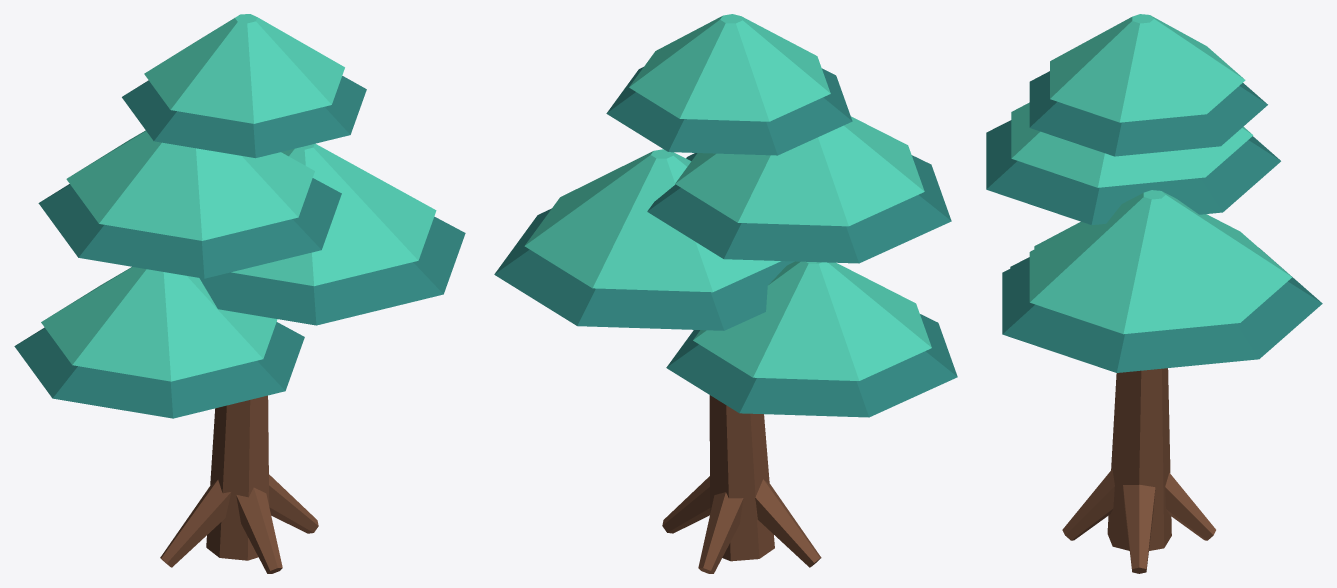
File: tree.glb
3 views of the same model, side by side, from view 1: azimuth 30°, elevation 25°; view 2: azimuth 150°, elevation 25°; view 3: azimuth 270°, elevation 25° (orthographic).
Visible parts, largest first — view 1: Pine sunlit bough cap 2, Pine sunlit bough cap 0, Pine sunlit bough cap 3, Pine sculpted bough 2, Pine sunlit bough cap 1, Pine sculpted bough 0, Pine sculpted bough 1, Pine sculpted bough 3, Pine trunk lower, Pine ground roots.002, Pine ground roots.003, Pine ground roots; view 2: Pine sunlit bough cap 0, Pine sunlit bough cap 1, Pine sunlit bough cap 2, Pine sunlit bough cap 3, Pine sculpted bough 2, Pine sculpted bough 1, Pine sculpted bough 0, Pine sculpted bough 3, Pine trunk lower, Pine ground roots.002, Pine ground roots.001, Pine ground roots; view 3: Pine sunlit bough cap 1, Pine sunlit bough cap 3, Pine sculpted bough 1, Pine sculpted bough 2, Pine sculpted bough 3, Pine trunk lower, Pine sunlit bough cap 2, Pine ground roots, Pine ground roots.003, Pine ground roots.001.
Boxes of the visible parts, box(x1,y1,x2,y2) form: Pine sunlit bough cap 2: box(66, 130, 314, 240); Pine sunlit bough cap 0: box(41, 267, 277, 381); Pine sunlit bough cap 3: box(144, 14, 344, 123); Pine sculpted bough 2: box(38, 178, 341, 278); Pine sunlit bough cap 1: box(231, 143, 436, 286); Pine sculpted bough 0: box(14, 322, 304, 418); Pine sculpted bough 1: box(199, 216, 465, 325); Pine sculpted bough 3: box(122, 76, 366, 158); Pine trunk lower: box(206, 395, 269, 560); Pine ground roots.002: box(160, 480, 231, 567); Pine ground roots.003: box(236, 487, 282, 573); Pine ground roots: box(269, 474, 318, 533); Pine sunlit bough cap 0: box(693, 261, 931, 380); Pine sunlit bough cap 1: box(524, 149, 780, 292); Pine sunlit bough cap 2: box(675, 116, 924, 226); Pine sunlit bough cap 3: box(629, 14, 830, 121); Pine sculpted bough 2: box(647, 153, 951, 263); Pine sculpted bough 1: box(494, 208, 794, 330); Pine sculpted bough 0: box(666, 314, 957, 417); Pine sculpted bough 3: box(606, 67, 852, 155); Pine trunk lower: box(709, 395, 774, 561); Pine ground roots.002: box(755, 479, 821, 567); Pine ground roots.001: box(698, 492, 743, 573); Pine ground roots: box(662, 476, 710, 533); Pine sunlit bough cap 1: box(1029, 190, 1292, 334); Pine sunlit bough cap 3: box(1050, 14, 1245, 122); Pine sculpted bough 1: box(1002, 248, 1322, 372); Pine sculpted bough 2: box(986, 120, 1280, 225); Pine sculpted bough 3: box(1029, 71, 1267, 156); Pine trunk lower: box(1107, 368, 1171, 550); Pine sunlit bough cap 2: box(1011, 102, 1253, 187); Pine ground roots: box(1123, 484, 1155, 573); Pine ground roots.003: box(1062, 469, 1114, 540); Pine ground roots.001: box(1165, 473, 1215, 540).
Size of the model in its own units: 2.89 by 3.51 by 2.04.
